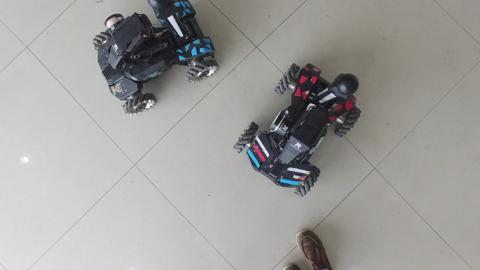chariot: (233, 58, 366, 197), (81, 1, 224, 119)
